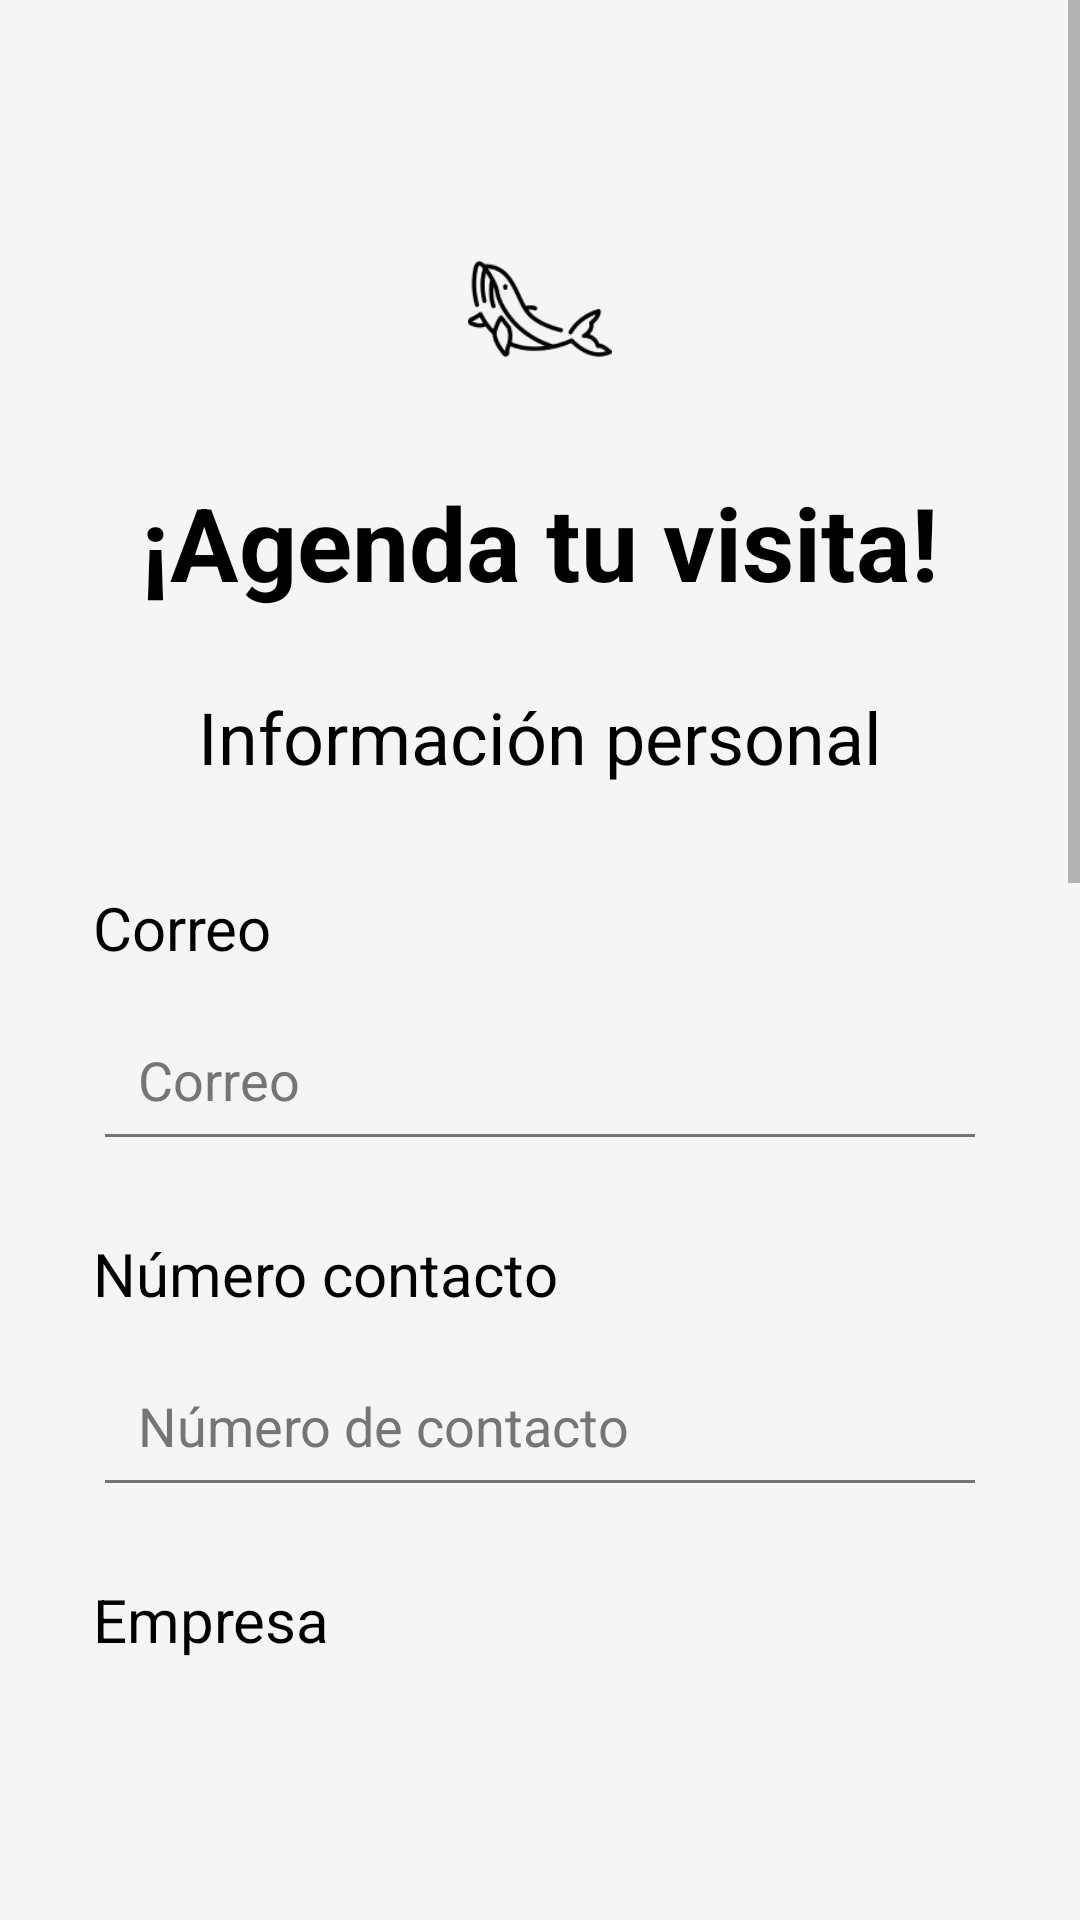

Icon click points for this 1080*1920 phone screenshot, format (x,y):
whale: (540,309)
